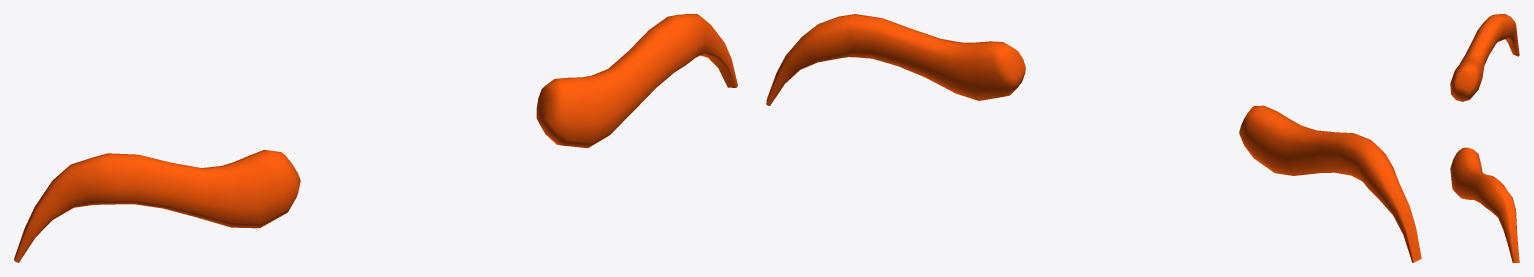
The model's file is Eyebrows_27_06.fbx.
3 renders of one model, left to right at view 1: azimuth 30°, elevation 25°; view 2: azimuth 150°, elevation 25°; view 3: azimuth 270°, elevation 25°, orthographic. The views are drawn at different scales.
Visible parts, largest first — view 1: Eyebrows_27_06; view 2: Eyebrows_27_06; view 3: Eyebrows_27_06.
Part boxes in pixels (left/top/right/bottom): Eyebrows_27_06: left=14, top=14, right=737, bottom=262; Eyebrows_27_06: left=766, top=14, right=1421, bottom=262; Eyebrows_27_06: left=1450, top=14, right=1519, bottom=262.
Bounding box in the file's own units: 18.72 × 2.55 × 2.61.
